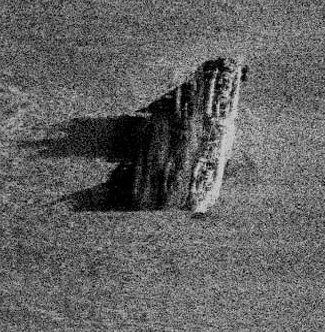ship: (186, 60, 241, 214)
